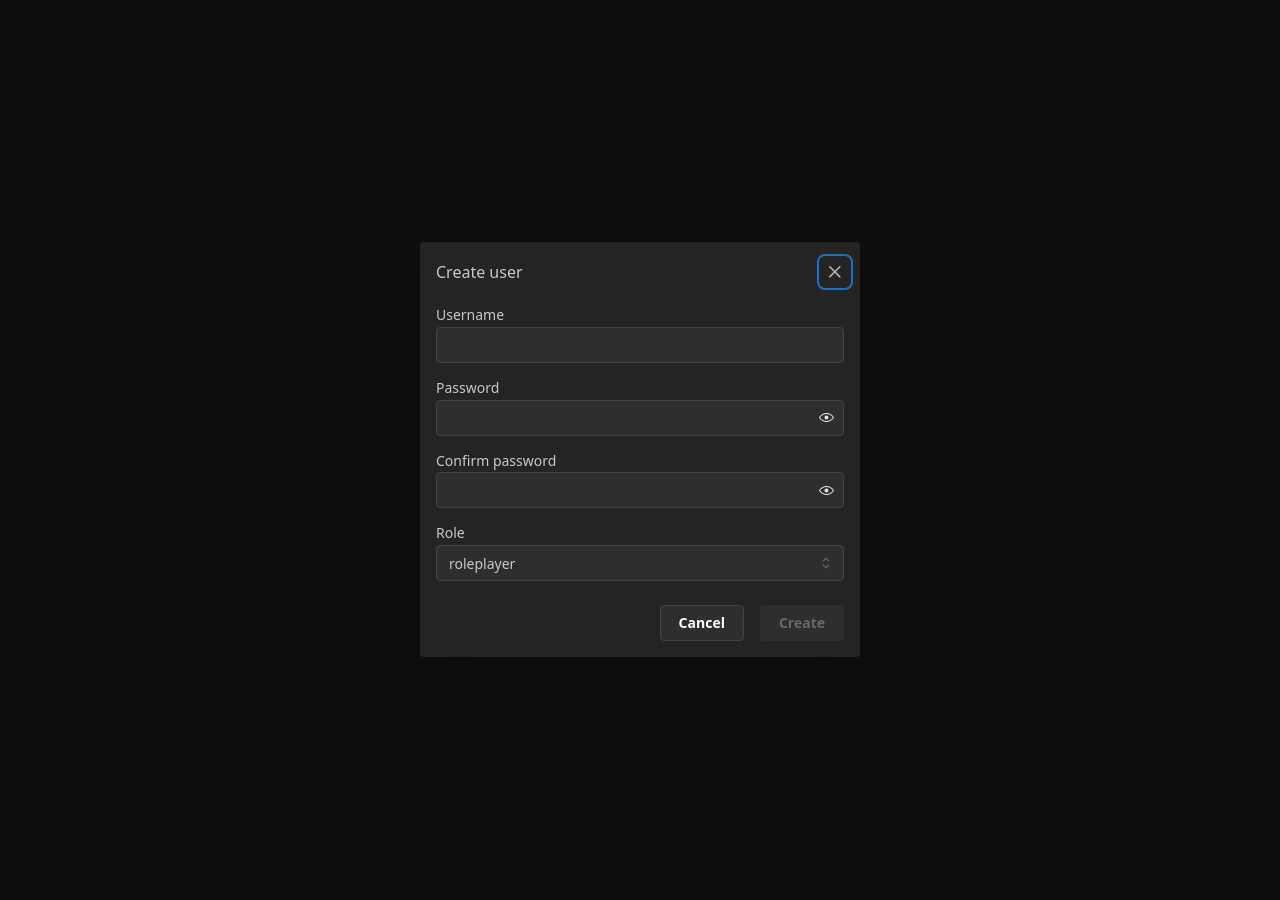
Test case: the submit control › is enabled for a filled, matching form, including a one-character password — DoD-3, DoD-2
Type "n" into the field labelled "Username" at {"x": 640, "y": 345}, box [436, 327, 844, 363]
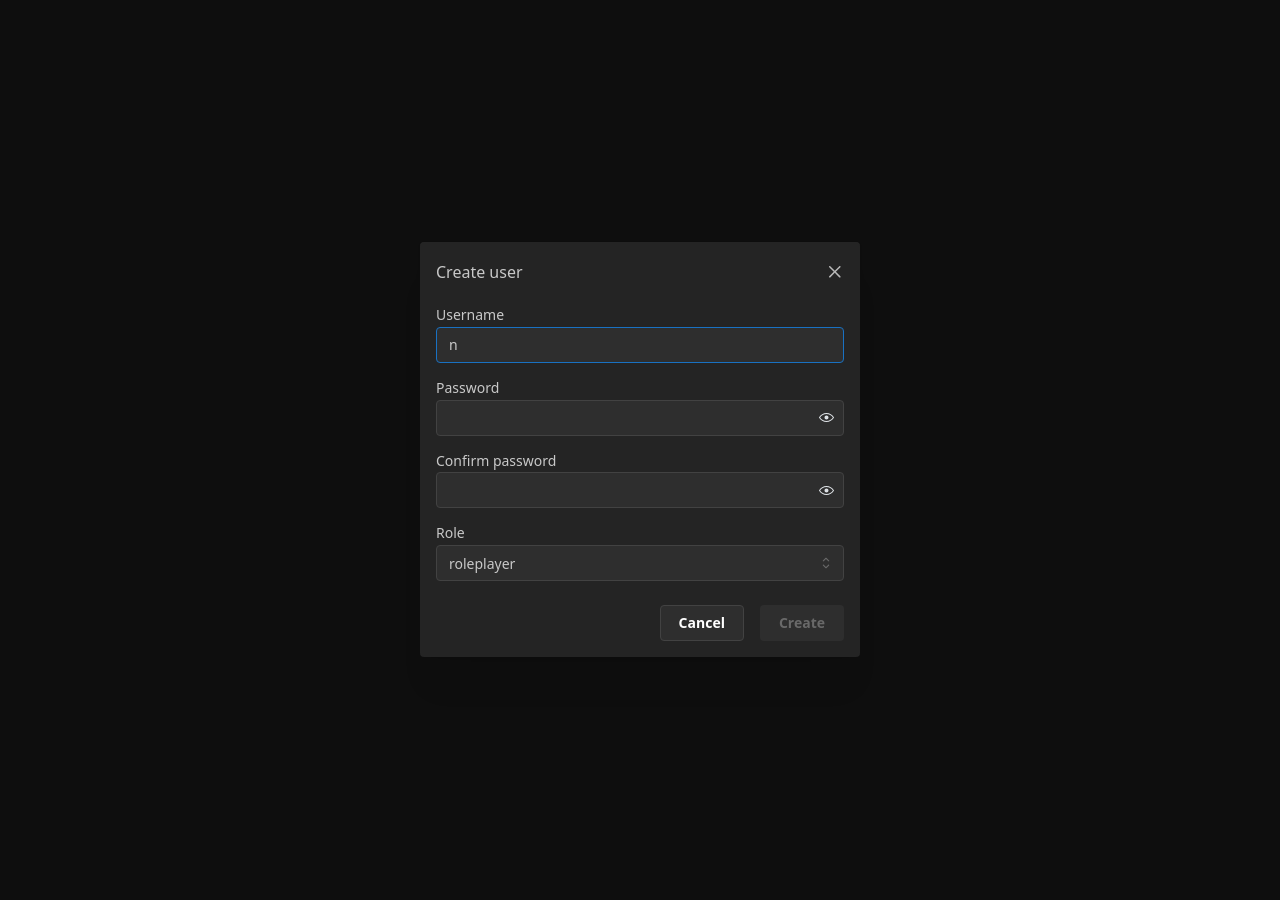
Type "x" into the password field labelled "Password" at {"x": 640, "y": 418}, box [437, 401, 843, 435]
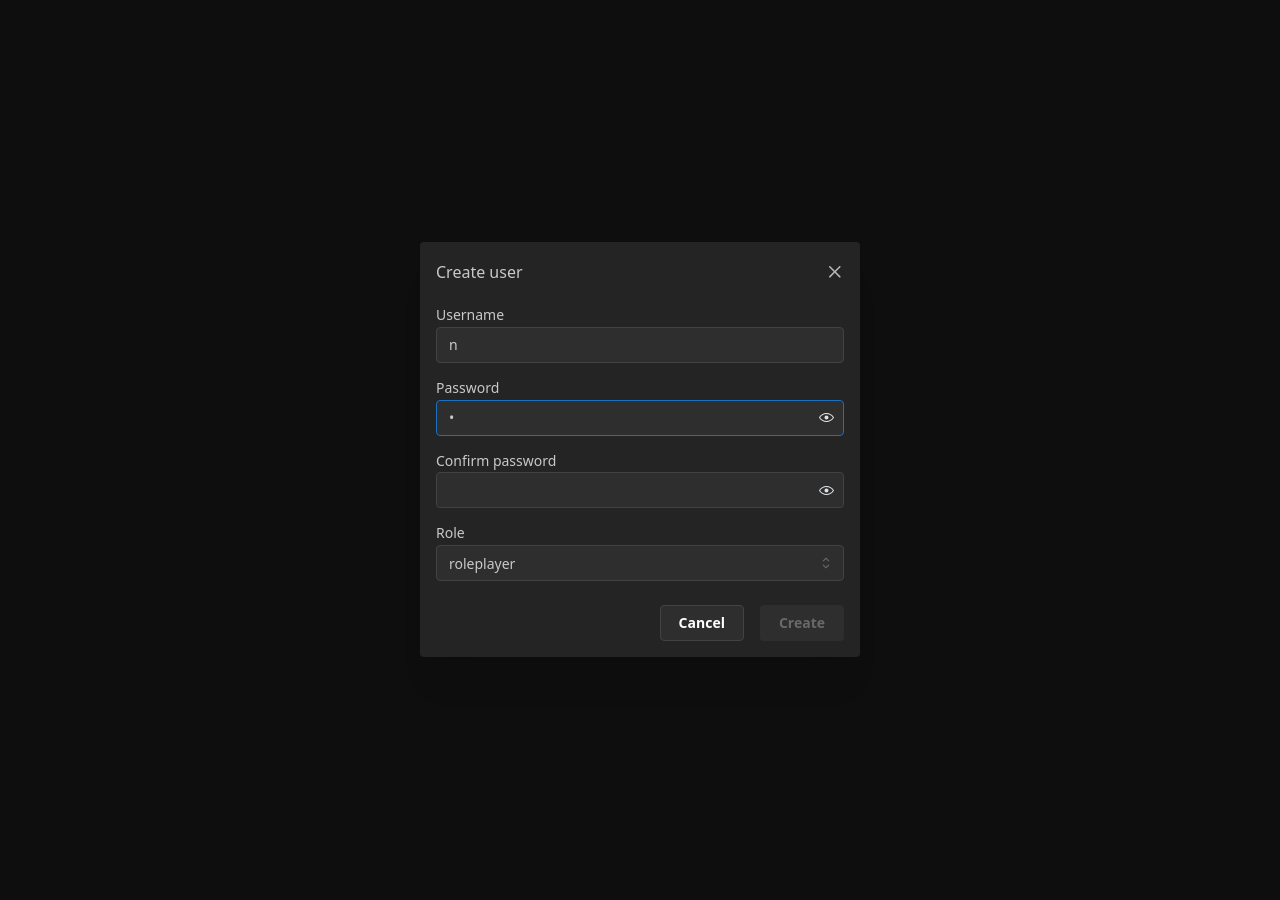
Type "x" into the password field labelled "Confirm password" at {"x": 640, "y": 491}, box [437, 474, 843, 508]
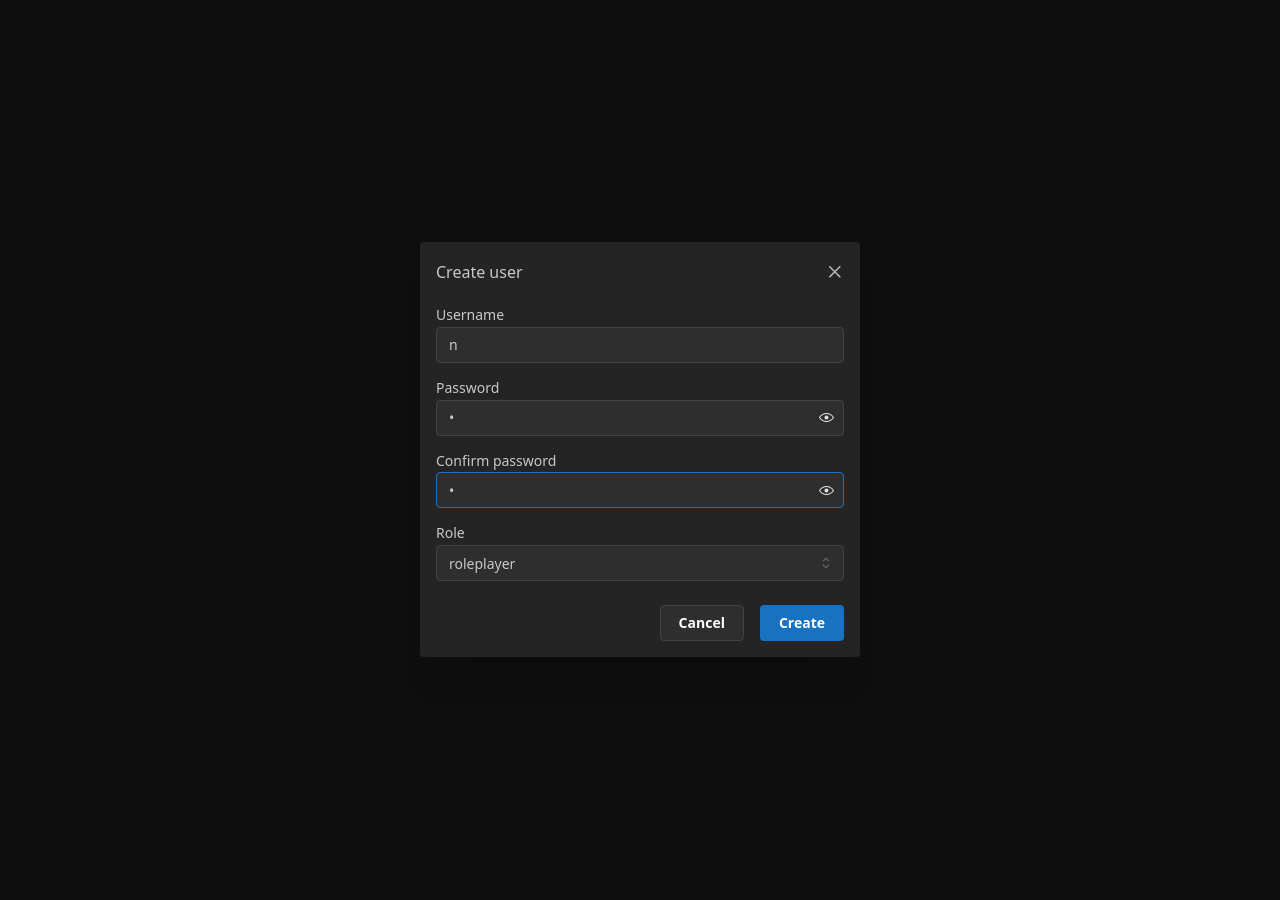
Check: the button "Create" is enabled, box [760, 606, 844, 642]
